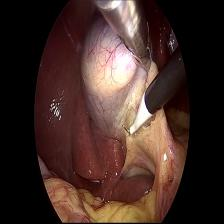Grasper: (132, 27, 157, 77)
Hook: (121, 93, 153, 140)
